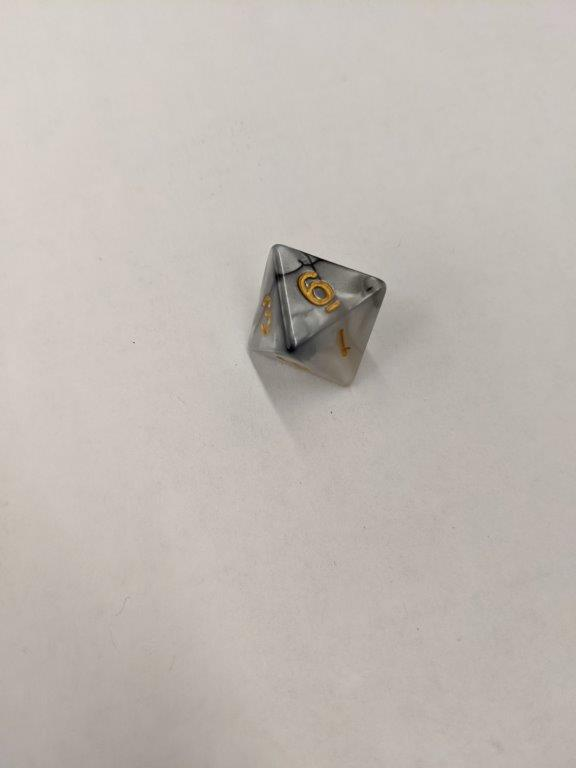d8-6: (244, 244, 387, 390)
